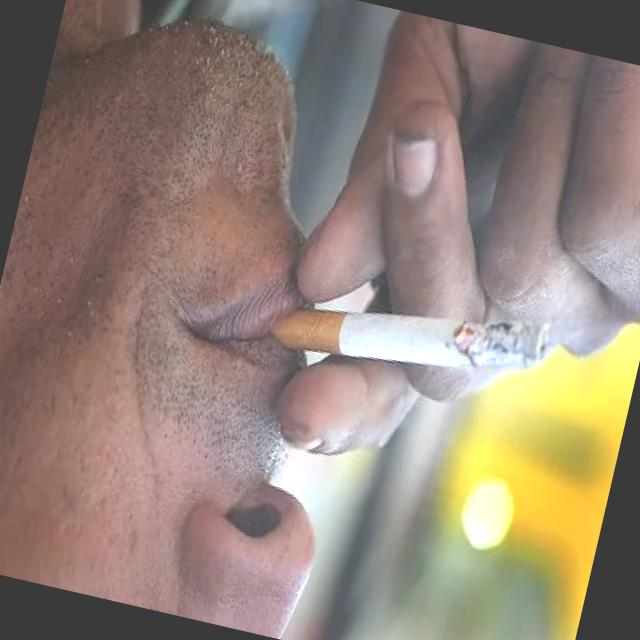cigarette: (258, 250, 560, 421)
